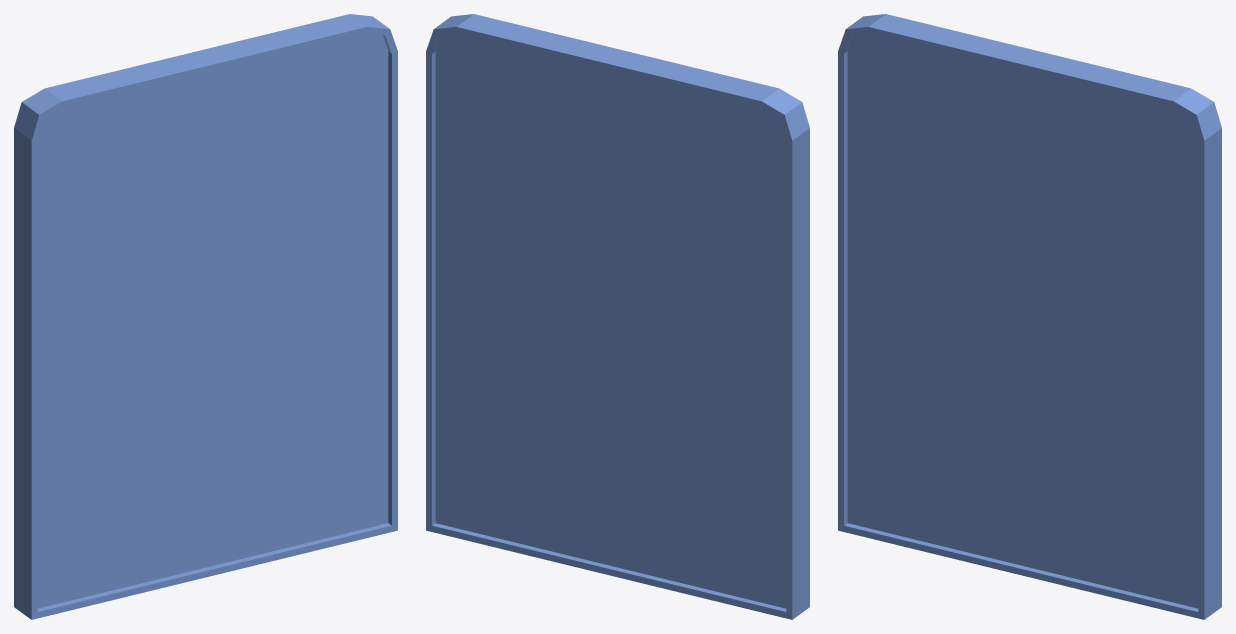
File: rcMenu.FBX
The picture shows the model from 3 angles, left to right: view 1: azimuth 30°, elevation 25°; view 2: azimuth 150°, elevation 25°; view 3: azimuth 330°, elevation 25°; orthographic projection.
Parts seen in each view (by area): view 1: menuGlass, foodMenu; view 2: menuGlass, foodMenu; view 3: menuGlass, foodMenu.
Boxes of the visible parts, x1,y1,x2,y2 form: menuGlass: (37,33,388,608); foodMenu: (14,14,397,619); menuGlass: (435,33,786,608); foodMenu: (426,14,809,619); menuGlass: (847,33,1198,608); foodMenu: (838,14,1221,619).
Bounding box in the file's own units: 0.6 × 0.8 × 0.05.
